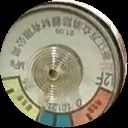green: (38, 109, 75, 128)
needle: (39, 94, 51, 128)
red: (73, 87, 116, 127)
yellow: (3, 78, 43, 123)
